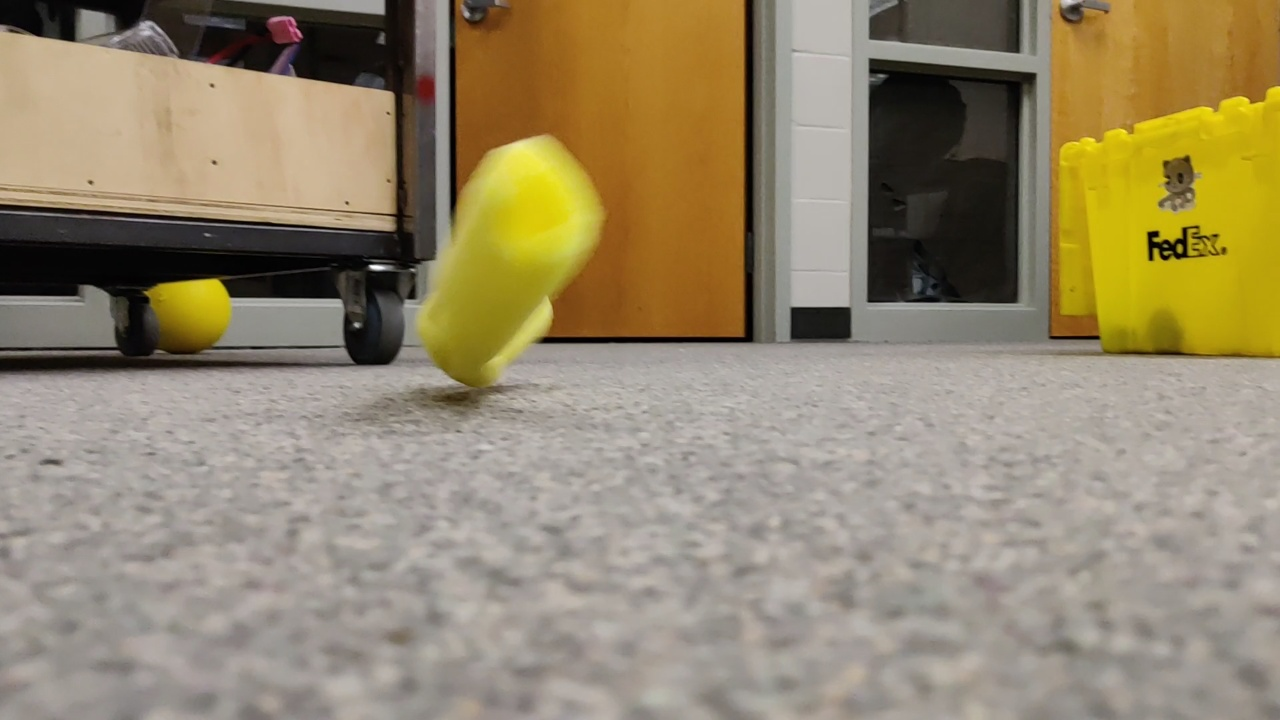Ball: (149, 280, 240, 359)
